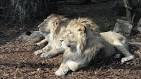lion: (56, 17, 134, 72)
